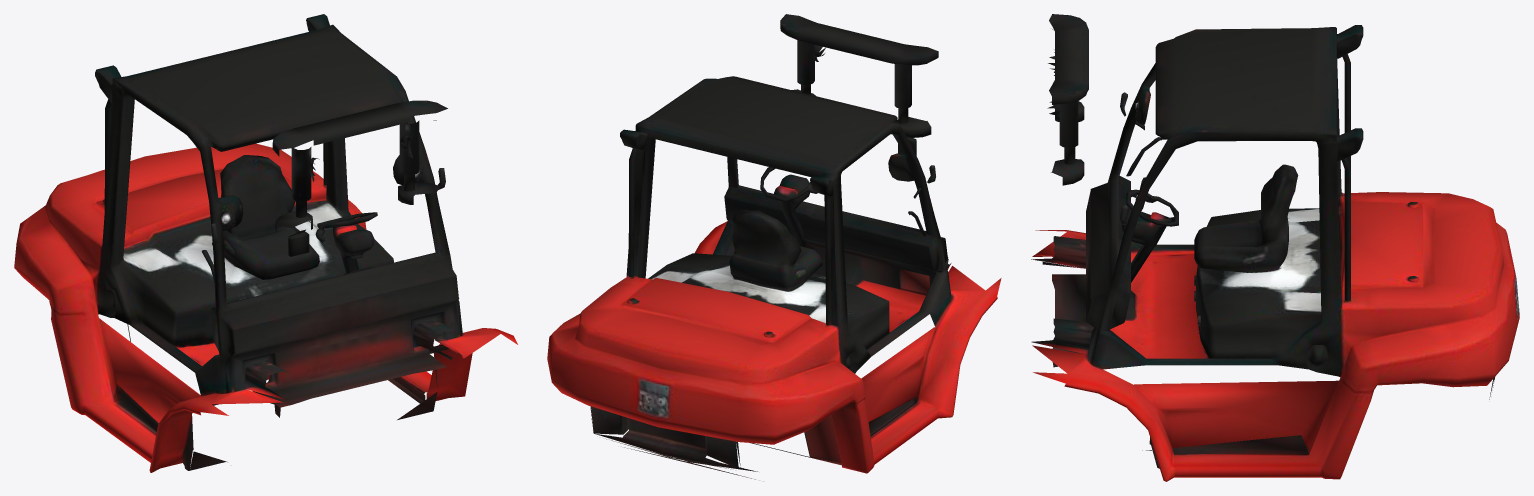
3 renders of one model, left to right at view 1: azimuth 30°, elevation 25°; view 2: azimuth 150°, elevation 25°; view 3: azimuth 270°, elevation 25°, orthographic. The views are drawn at different scales.
Parts seen in each view (by area): view 1: tripo_node_a8990f6e-4dfd-4d81-888d-f4da57077492; view 2: tripo_node_a8990f6e-4dfd-4d81-888d-f4da57077492; view 3: tripo_node_a8990f6e-4dfd-4d81-888d-f4da57077492.
Boxes of the visible parts, x1,y1,x2,y2 form: tripo_node_a8990f6e-4dfd-4d81-888d-f4da57077492: [14, 14, 517, 472]; tripo_node_a8990f6e-4dfd-4d81-888d-f4da57077492: [547, 14, 1001, 479]; tripo_node_a8990f6e-4dfd-4d81-888d-f4da57077492: [1031, 14, 1519, 481].
Bounding box in the file's own units: 1.62 × 1.77 × 2.18.
Materials: 1 (1 with a texture image).
